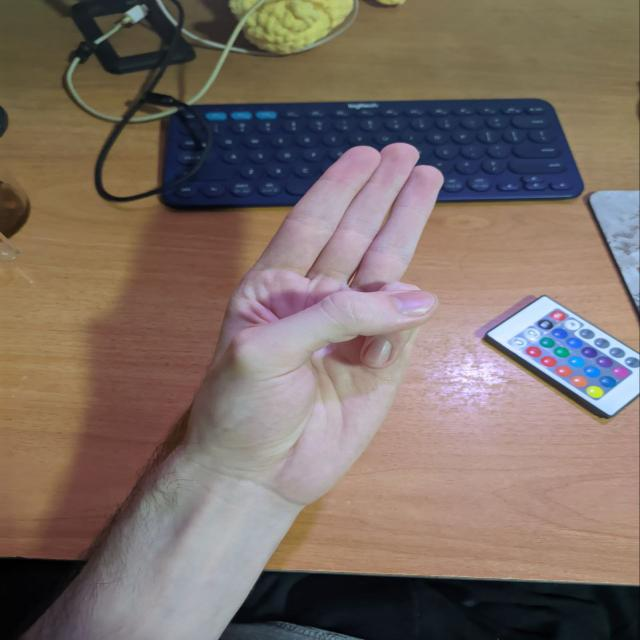sh: (222, 135, 454, 483)
